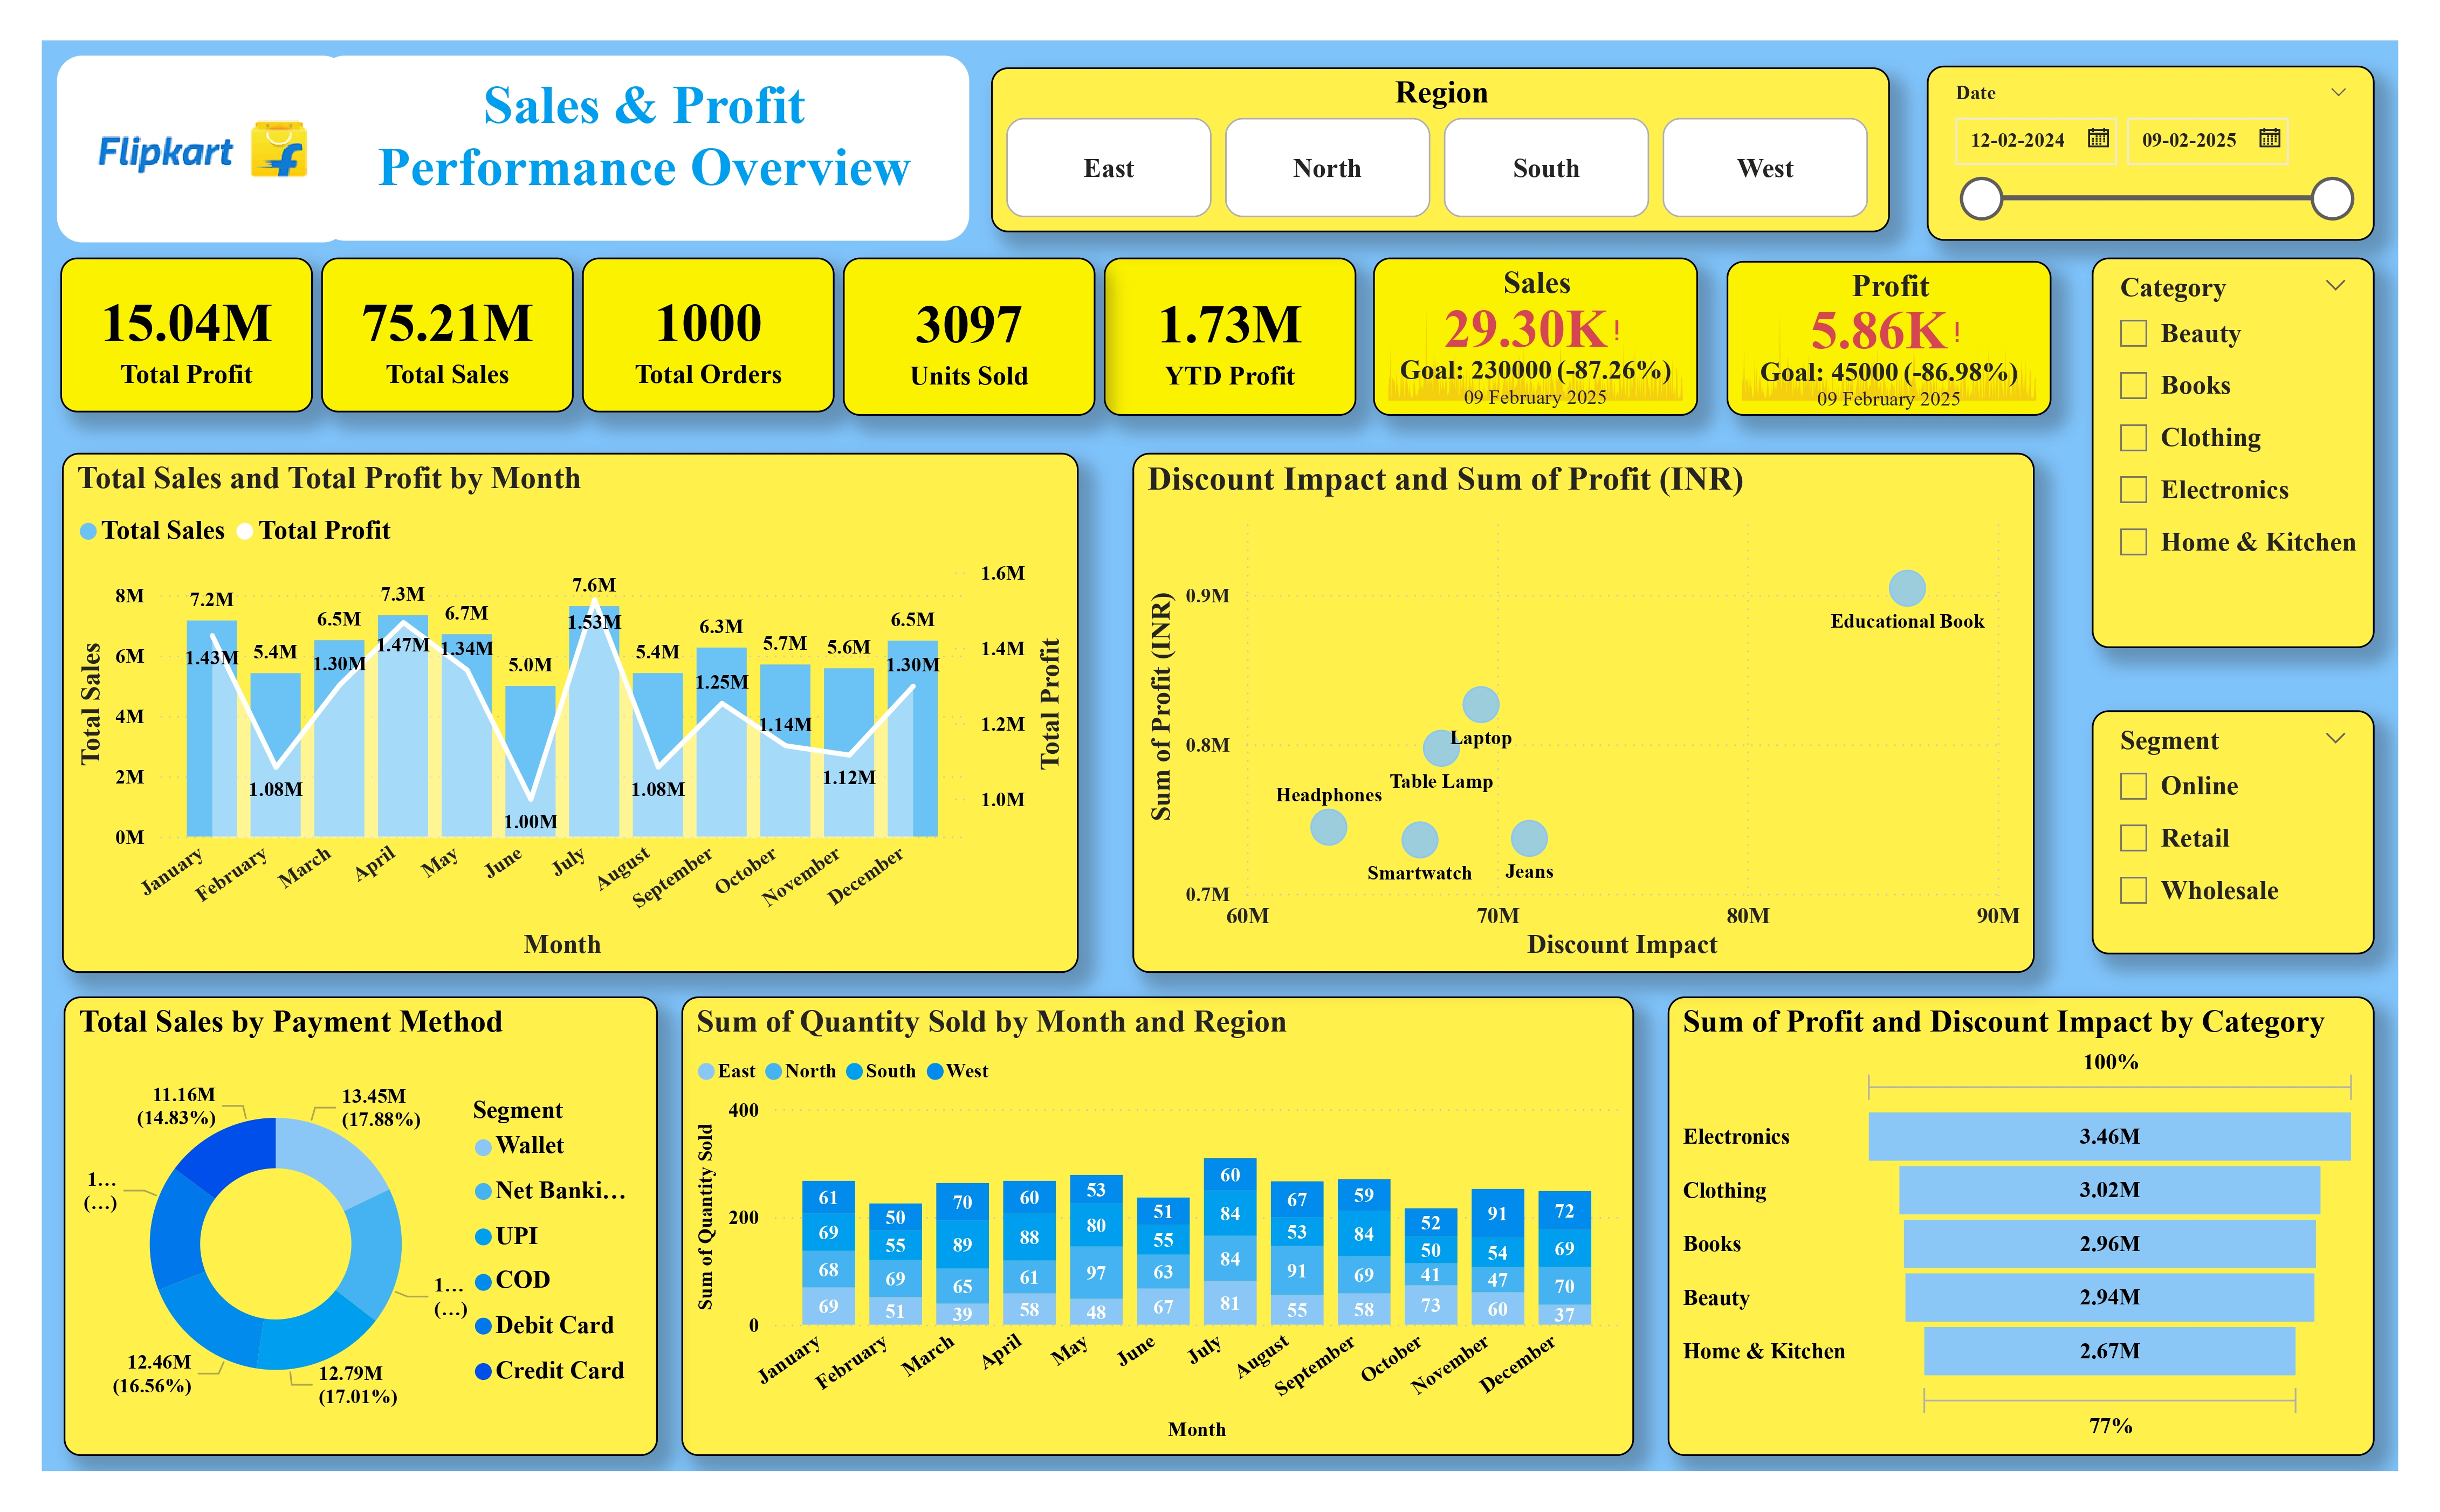

What the dashboard file says about the page in this screenshot:
{"tool":"powerbi","page":{"name":"Page 1","canvas":[1400,850],"ordinal":0},"visuals":[{"type":"card","fields":{"Values":["DAX_TABLE.YTD Profit"]},"box":[631.2,128.8,150,93.8],"z":0},{"type":"lineStackedColumnComboChart","fields":{"Category":["DateTable.Date.Variation.Date Hierarchy.Month"],"Y":["DAX_TABLE.Total Sales"],"Y2":["DAX_TABLE.Total Profit"]},"box":[12.5,244.6,603.6,308.9],"z":1000},{"type":"funnel","title":"Sum of Profit  and Discount Impact by Category","fields":{"Y":["Sum(flipkart.Profit (INR))"],"Category":["flipkart.Category"]},"box":[966.2,567.5,420,273.8],"z":2000},{"type":"columnChart","fields":{"Y":["Sum(flipkart.Quantity Sold)"],"Category":["DateTable.Date.Variation.Date Hierarchy.Month"],"Series":["flipkart.Region"]},"box":[380,567.5,566.2,273.8],"z":3000},{"type":"scatterChart","title":"Discount Impact and Sum of Profit (INR) ","fields":{"X":["DAX_TABLE.Discount Impact"],"Y":["Sum(flipkart.Profit (INR))"],"Category":["flipkart.Product Name"]},"box":[648.2,244.6,535.7,308.9],"z":4000},{"type":"donutChart","fields":{"Y":["DAX_TABLE.Total Sales"],"Category":["flipkart.Payment Method"]},"box":[12.5,567.5,353.8,273.8],"z":5000},{"type":"slicer","fields":{"Values":["DateTable.Date"]},"box":[1120.3,15.3,265.2,103.7],"z":6000},{"type":"slicer","fields":{"Values":["flipkart.Category"]},"box":[1217.9,128.6,167.9,232.1],"z":7000},{"type":"advancedSlicerVisual","fields":{"Values":["flipkart.Region"]},"box":[564.3,16.1,533.9,98.2],"z":8000},{"type":"slicer","fields":{"Values":["flipkart.Customer Segment"]},"box":[1217.9,398.2,167.9,144.6],"z":9000},{"type":"image","box":[8.7,8.9,173.2,110.7],"z":10000},{"type":"kpi","title":"Sales","fields":{"Goal":["DAX_TABLE.Sales Target"],"TrendLine":["DateTable.Date"],"Indicator":["Sum(flipkart.Total Sales (INR))"]},"box":[791.2,128.8,192.5,93.8],"z":11000},{"type":"kpi","title":"Profit","fields":{"Indicator":["Sum(flipkart.Profit (INR))"],"TrendLine":["DateTable.Date"],"Goal":["DAX_TABLE.Profit Target"]},"box":[1001.2,131.2,192.5,91.2],"z":12000},{"type":"textbox","box":[164.9,8.5,385.9,110.5],"z":13000},{"type":"card","fields":{"Values":["DAX_TABLE.Total Profit"]},"box":[10.7,128.6,150,92.9],"z":14000},{"type":"card","fields":{"Values":["DAX_TABLE.Total Sales"]},"box":[166.1,128.6,150,92.9],"z":15000},{"type":"card","fields":{"Values":["DAX_TABLE.Total Orders"]},"box":[321.4,128.6,150,92.9],"z":16000},{"type":"card","fields":{"Values":["DAX_TABLE.Units Sold"]},"box":[476.2,128.8,150,93.8],"z":17000}]}

Visuals, with their boxes in screenshot pixels (x1, y1, x2, y2):
card - DAX_TABLE.YTD Profit: crop(1097, 240, 1356, 402)
lineStackedColumnComboChart - DateTable.Date.Variation.Date Hierarchy.Month x DAX_TABLE.Total Sales: crop(34, 439, 1071, 971)
"Sum of Profit  and Discount Impact by Category" funnel: crop(1673, 994, 2395, 1465)
columnChart - Sum(flipkart.Quantity Sold) x DateTable.Date.Variation.Date Hierarchy.Month: crop(666, 994, 1639, 1465)
"Discount Impact and Sum of Profit (INR) " scatterChart: crop(1127, 439, 2047, 971)
donutChart - DAX_TABLE.Total Sales x flipkart.Payment Method: crop(34, 994, 642, 1465)
slicer - DateTable.Date: crop(1938, 45, 2394, 224)
slicer - flipkart.Category: crop(2106, 240, 2395, 639)
advancedSlicerVisual - flipkart.Region: crop(982, 47, 1900, 216)
slicer - flipkart.Customer Segment: crop(2106, 704, 2395, 952)
image: crop(28, 35, 325, 225)
"Sales" kpi: crop(1372, 240, 1703, 402)
"Profit" kpi: crop(1734, 245, 2064, 401)
textbox: crop(296, 33, 959, 224)
card - DAX_TABLE.Total Profit: crop(31, 240, 289, 400)
card - DAX_TABLE.Total Sales: crop(298, 240, 556, 400)
card - DAX_TABLE.Total Orders: crop(565, 240, 823, 400)
card - DAX_TABLE.Units Sold: crop(831, 240, 1089, 402)
